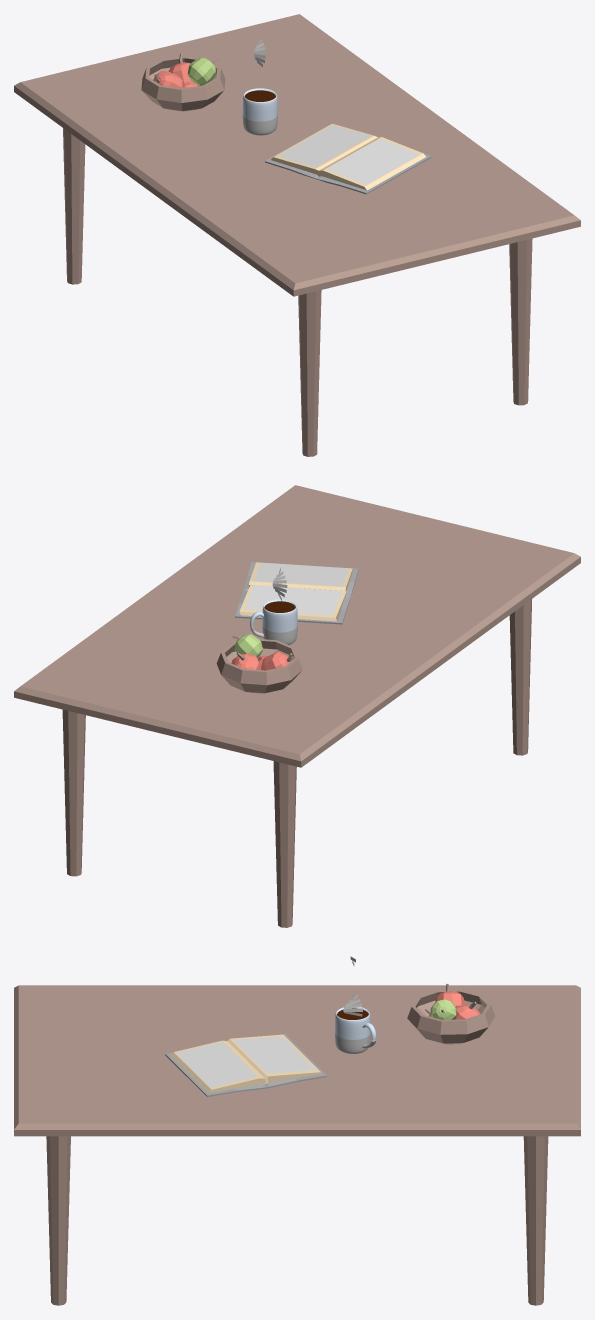
The model's file is table.glb.
The picture shows the model from 3 angles, top to bottom: view 1: azimuth 30°, elevation 25°; view 2: azimuth 150°, elevation 25°; view 3: azimuth 270°, elevation 25°; orthographic projection.
Parts seen in each view (by area): view 1: table, fruit_basket, open_book, right_page_ref, left_page_ref, mug_top; view 2: table, fruit_basket, open_book, left_page_ref, right_page_ref, mug_top; view 3: table, fruit_basket, open_book, right_page_ref, left_page_ref, mug_top, mug_bottom.
Boxes of the visible parts, left/top/right/bottom form: table: left=14, top=14, right=580, bottom=456; fruit_basket: left=141, top=53, right=225, bottom=111; open_book: left=265, top=123, right=432, bottom=194; right_page_ref: left=326, top=138, right=418, bottom=184; left_page_ref: left=280, top=125, right=370, bottom=166; mug_top: left=242, top=88, right=277, bottom=121; table: left=14, top=485, right=580, bottom=927; fruit_basket: left=216, top=634, right=302, bottom=693; open_book: left=235, top=562, right=358, bottom=624; left_page_ref: left=244, top=584, right=342, bottom=615; right_page_ref: left=254, top=563, right=348, bottom=585; mug_top: left=249, top=599, right=297, bottom=632; table: left=14, top=985, right=580, bottom=1305; fruit_basket: left=407, top=983, right=495, bottom=1044; open_book: left=165, top=1034, right=326, bottom=1096; right_page_ref: left=176, top=1041, right=257, bottom=1087; left_page_ref: left=233, top=1036, right=315, bottom=1073; mug_top: left=335, top=1007, right=376, bottom=1041; mug_bottom: left=335, top=1033, right=375, bottom=1053.
Bounding box in the file's own units: 11.74 × 11.08 × 19.8.
